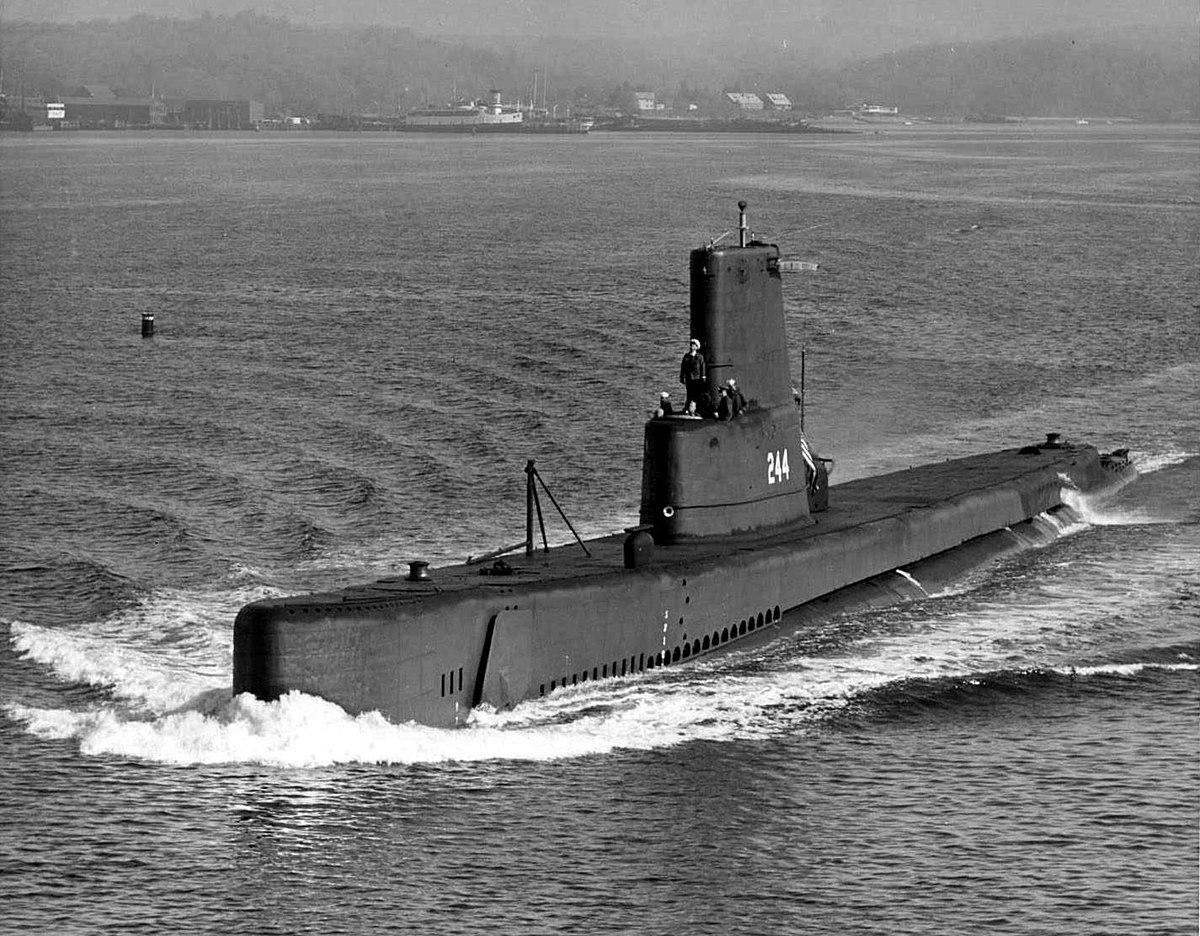Submarine: (170, 160, 1165, 898)
